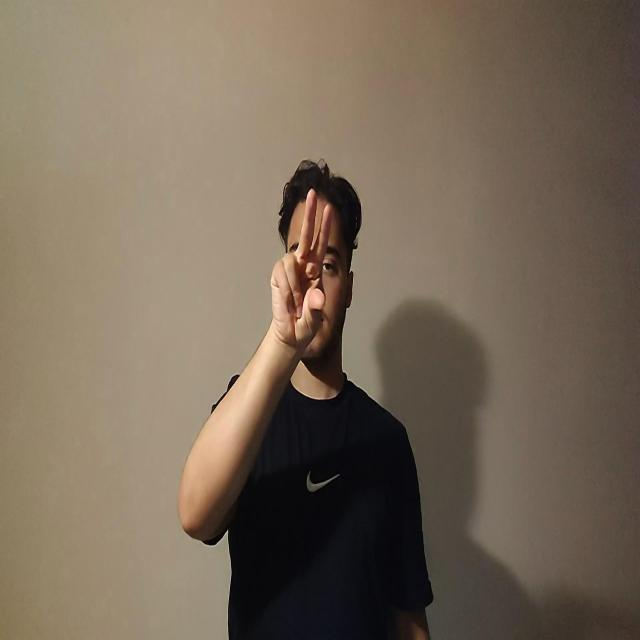no: (270, 187, 332, 354)
